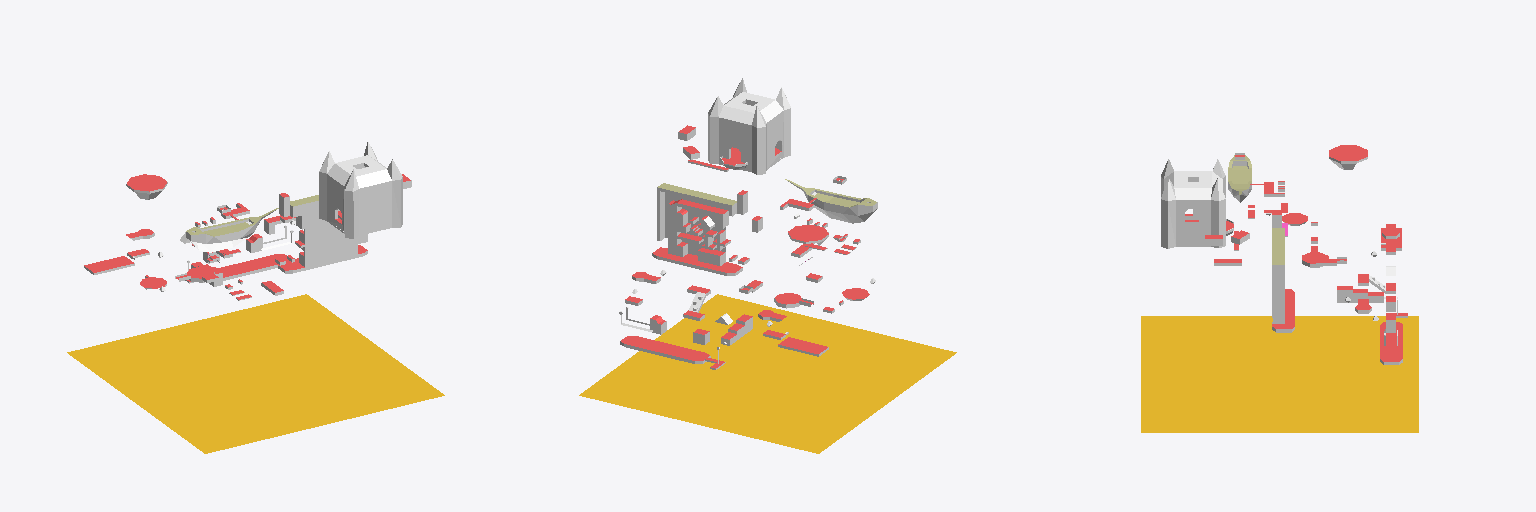
The model's file is Rainbow Ride Area 1.obj.
The picture shows the model from 3 angles: view 1: azimuth 30°, elevation 25°; view 2: azimuth 150°, elevation 25°; view 3: azimuth 270°, elevation 25°; orthographic projection.
Bounding box in the file's own units: 32766 × 30788 × 32766.